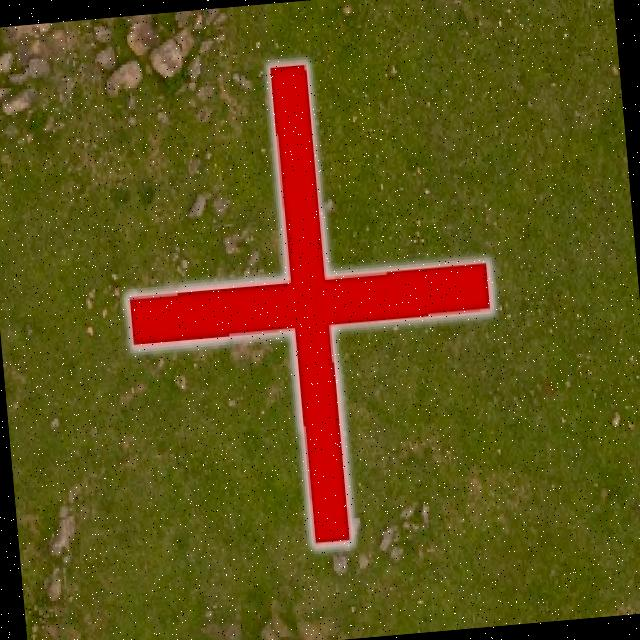x_marker: (108, 49, 510, 558)
